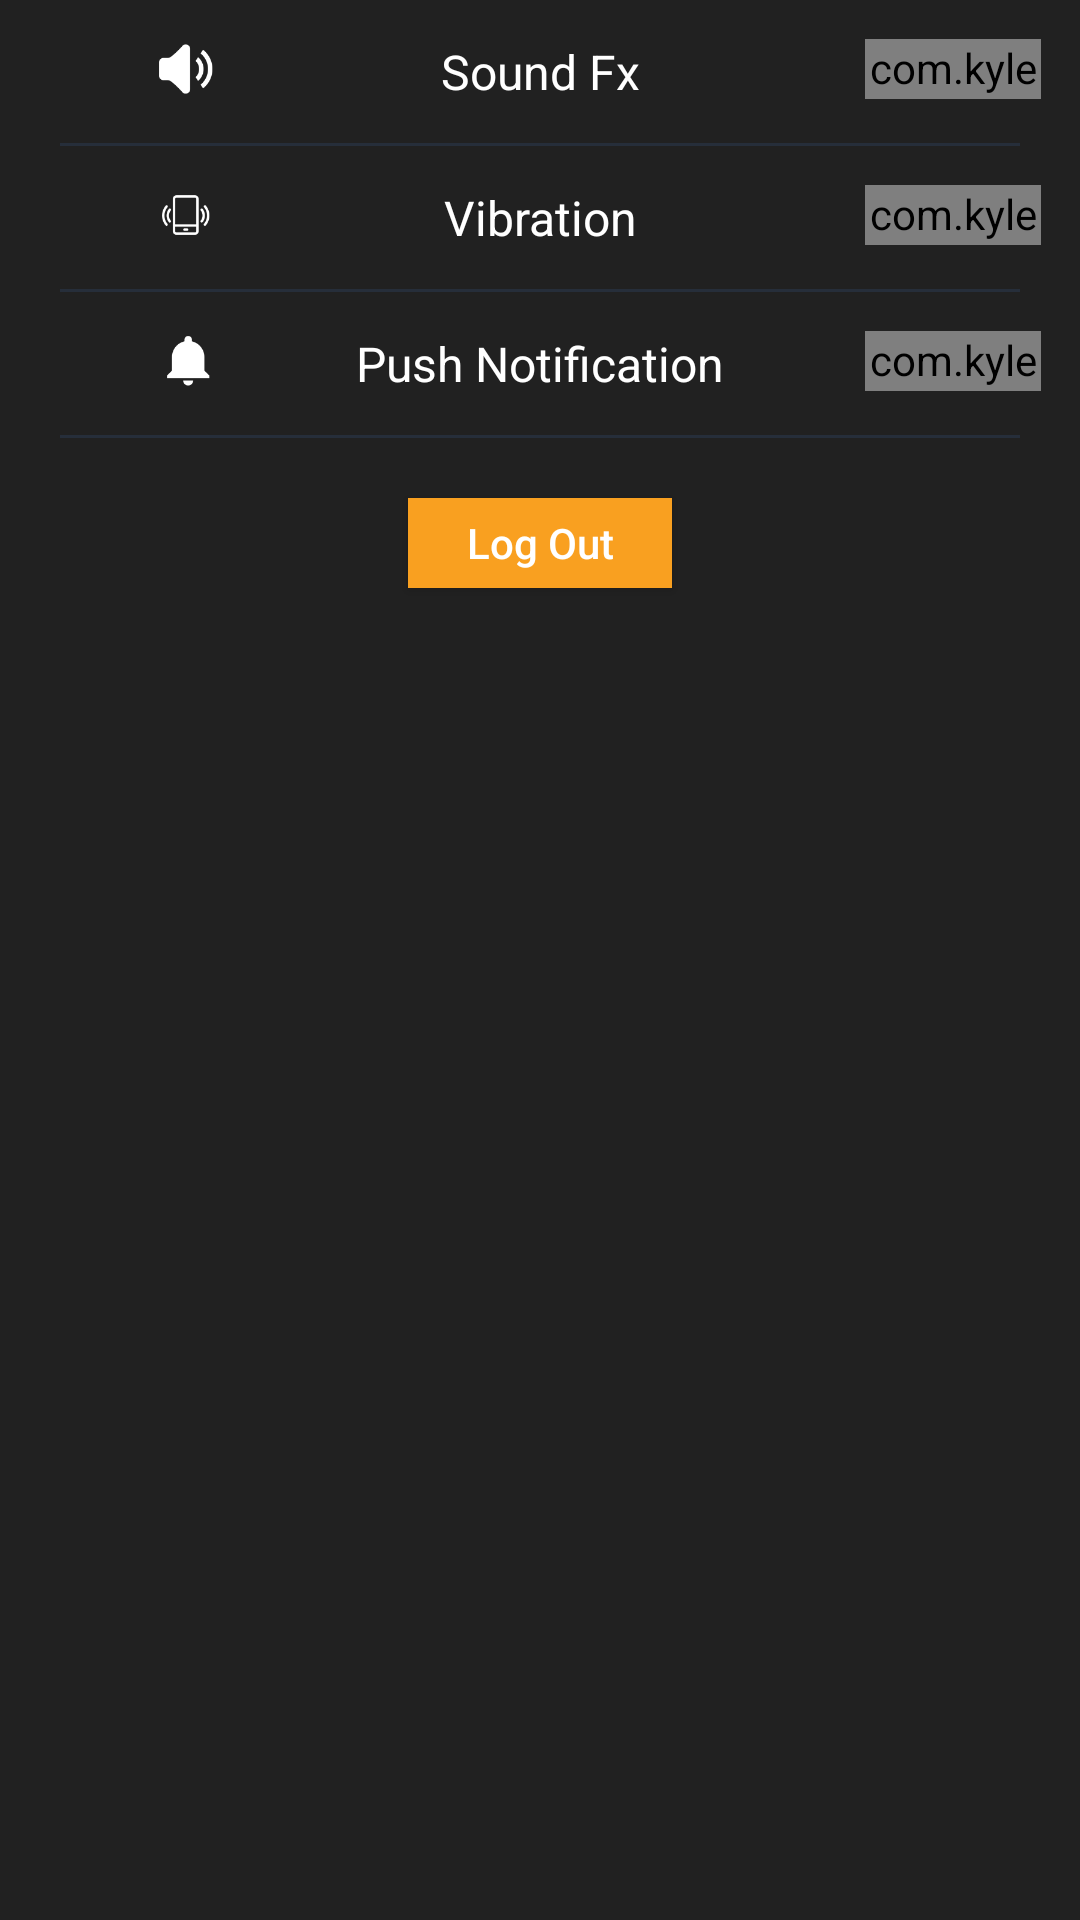

Screen size 1080px×1920px. Icon name, then its center in pixels as (x=x, y=y):
volume: (x=186, y=69)
